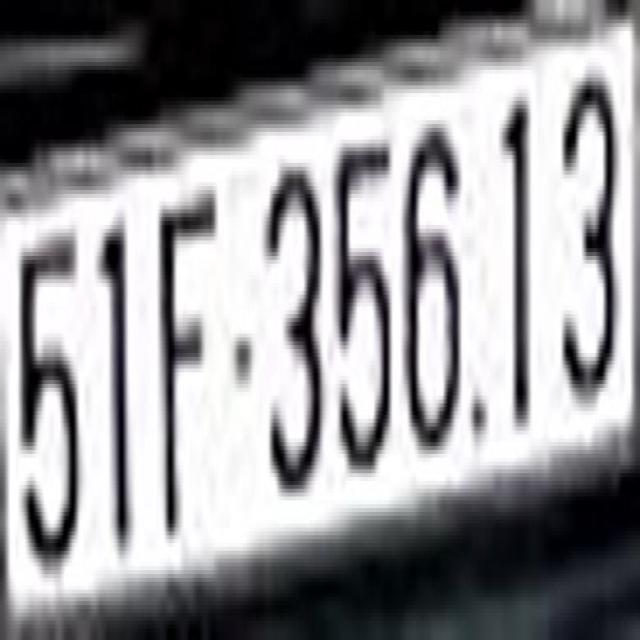1: (98, 190, 134, 547), (504, 97, 538, 473)
3: (556, 50, 619, 408), (263, 151, 325, 512)
5: (334, 101, 392, 485), (18, 225, 80, 578)
6: (402, 112, 464, 462)
F: (158, 178, 218, 536)
